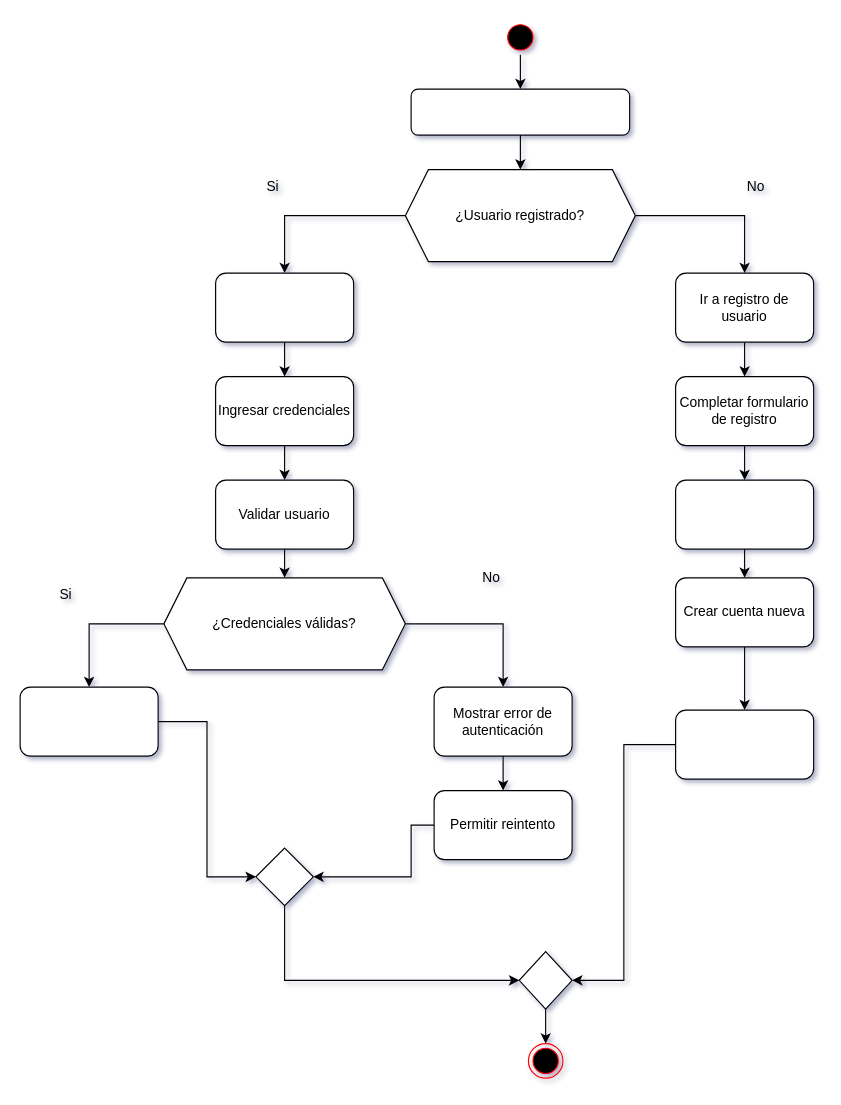
This 841x1105 diagram has some shape labels left out. The centre of each missing label's shape, as x and y in pixels:
"Inicio de la aplicación" belongs at pixel 520 111.
"Ir a la pantalla de inicio de sesión" belongs at pixel 284 307.
"Ir al panel principal" belongs at pixel 744 744.
"Mostrar panel principal (Dashboard)" belongs at pixel 88 721.
"Validar datos" belongs at pixel 744 514.
